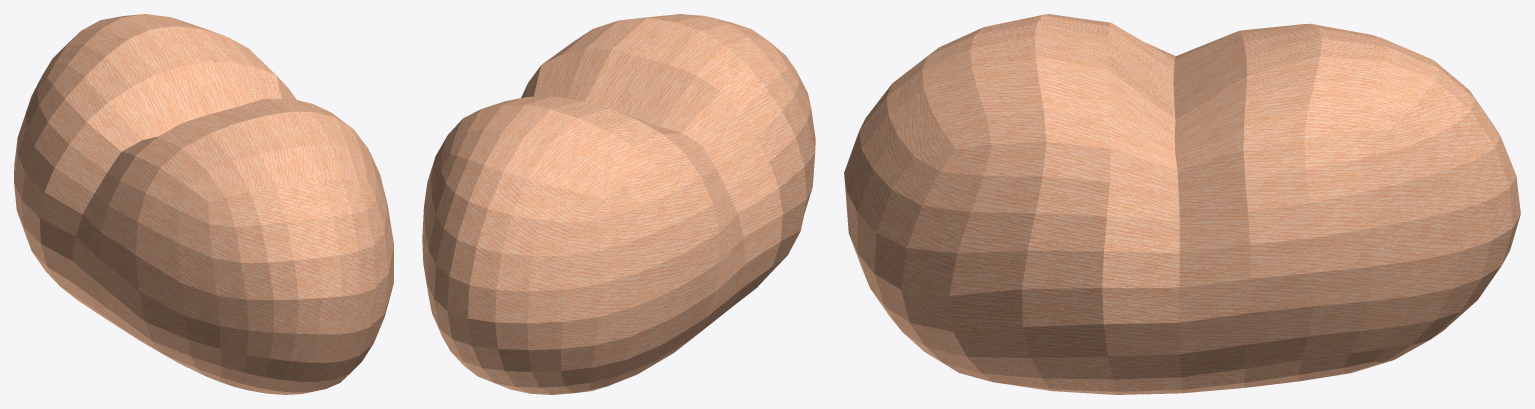
The model's file is buttcheek2.fbx.
3 views of the same model, side by side, from view 1: azimuth 30°, elevation 25°; view 2: azimuth 150°, elevation 25°; view 3: azimuth 270°, elevation 25° (orthographic). The views are drawn at different scales.
Visible parts, largest first — view 1: Cube; view 2: Cube; view 3: Cube.
Boxes of the visible parts, <box> form: Cube: <box>14,14,393,394</box>; Cube: <box>422,14,815,394</box>; Cube: <box>844,14,1520,394</box>.
Size of the model in its own units: 194 by 181 by 341.
